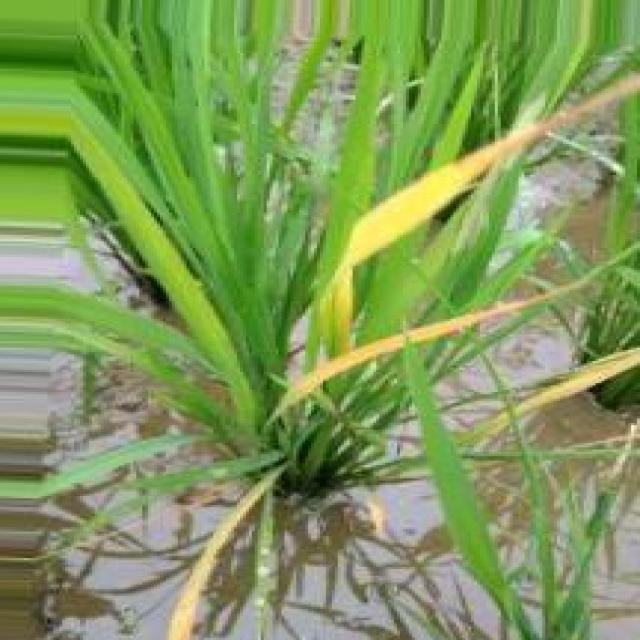Rice Tungro: (340, 76, 639, 272), (279, 281, 589, 416)
